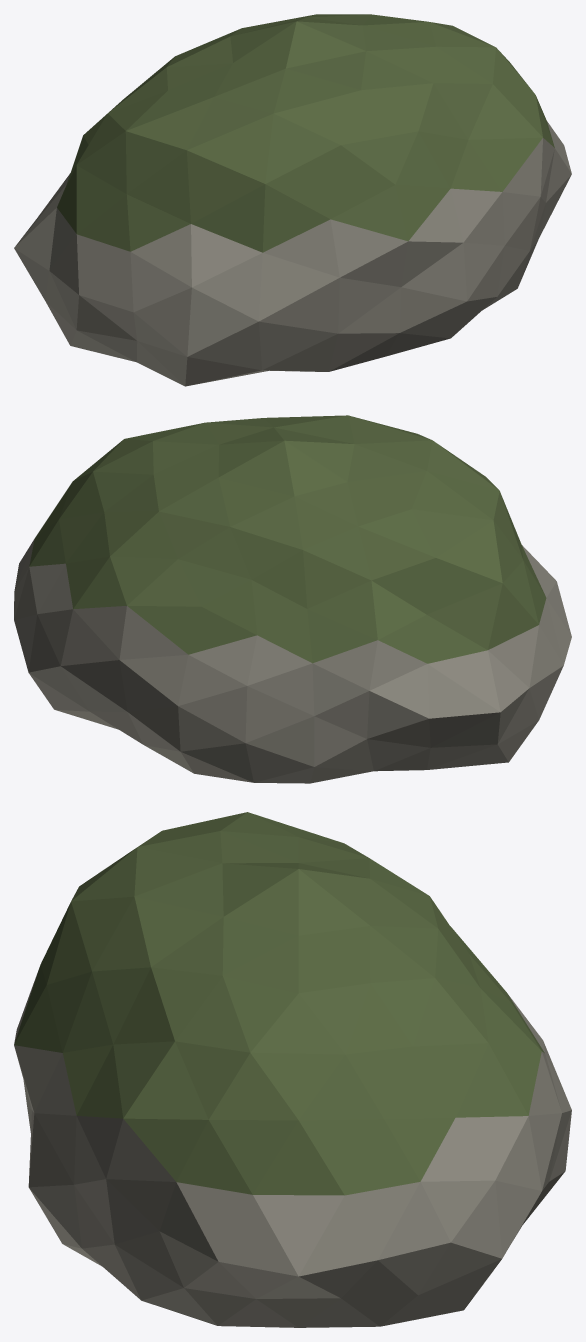
The model's file is rock.obj.
3 renders of one model, top to bottom at view 1: azimuth 30°, elevation 25°; view 2: azimuth 150°, elevation 25°; view 3: azimuth 270°, elevation 25°, orthographic. The views are drawn at different scales.
Visible parts, largest first — view 1: rock; view 2: rock; view 3: rock.
Part boxes in pixels (x1,y1,x2,y2): rock: (14,14,571,386); rock: (14,415,571,783); rock: (14,812,571,1327).
Bounding box in the file's own units: 2.3 × 1.14 × 1.69.
